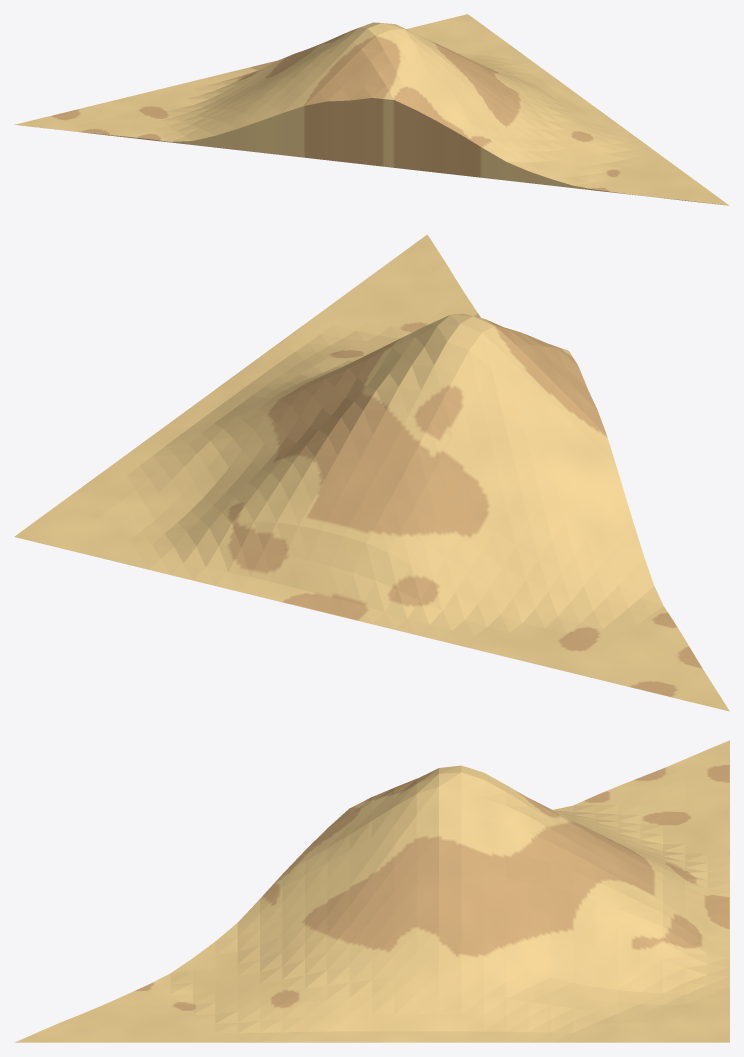
The model's file is Desert_Mountains_05_SE.obj.
3 renders of one model, top to bottom at view 1: azimuth 30°, elevation 25°; view 2: azimuth 150°, elevation 25°; view 3: azimuth 270°, elevation 25°, orthographic. The views are drawn at different scales.
Bounding box in the file's own units: 10 × 2.27 × 10.
1 material, 1 textured.
